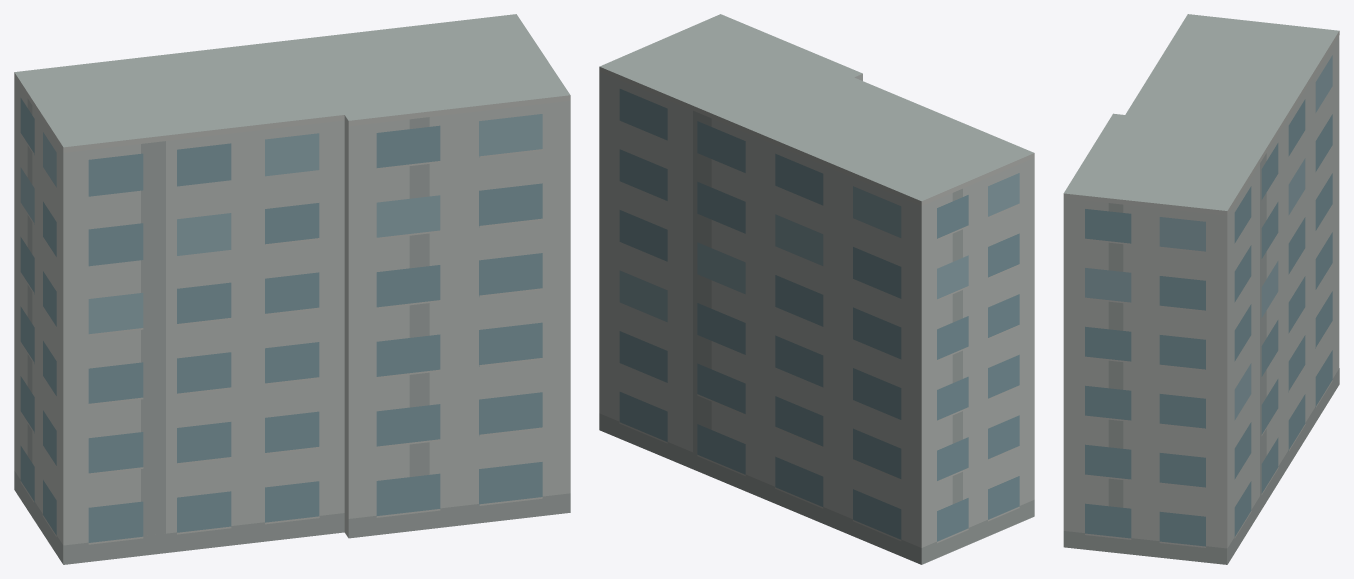
The model's file is survey-upis-32803377.glb.
3 renders of one model, left to right at view 1: azimuth 30°, elevation 25°; view 2: azimuth 150°, elevation 25°; view 3: azimuth 270°, elevation 25°, orthographic. The views are drawn at different scales.
Parts seen in each view (by area): view 1: survey-upis-32803377.tmp; view 2: survey-upis-32803377.tmp; view 3: survey-upis-32803377.tmp.
Boxes of the visible parts, <box> form: survey-upis-32803377.tmp: <box>14,14,570,564</box>; survey-upis-32803377.tmp: <box>599,14,1034,564</box>; survey-upis-32803377.tmp: <box>1063,14,1339,564</box>.
Bounding box in the file's own units: 21.86 × 18.3 × 12.94.
